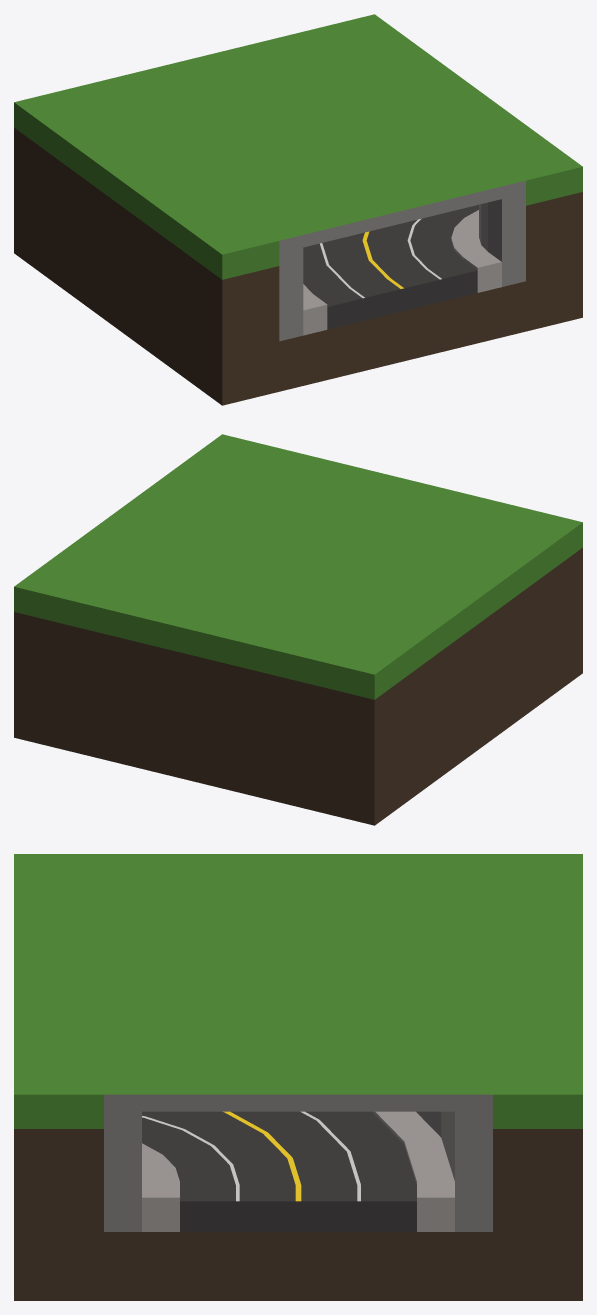
Rendered from tiles_tile-mainroad-tunnel-curve.fbx.
The picture shows the model from 3 angles, top to bottom: view 1: azimuth 30°, elevation 25°; view 2: azimuth 150°, elevation 25°; view 3: azimuth 270°, elevation 25°; orthographic projection. The views are drawn at different scales.
Visible parts, largest first — view 1: tiles_tile_mainroad_tunnel_curve; view 2: tiles_tile_mainroad_tunnel_curve; view 3: tiles_tile_mainroad_tunnel_curve.
Part boxes in pixels (bbox=[...]): tiles_tile_mainroad_tunnel_curve: bbox=[14, 14, 582, 405]; tiles_tile_mainroad_tunnel_curve: bbox=[14, 434, 582, 825]; tiles_tile_mainroad_tunnel_curve: bbox=[14, 854, 582, 1300].
Bounding box in the file's own units: 200 × 80 × 200.
